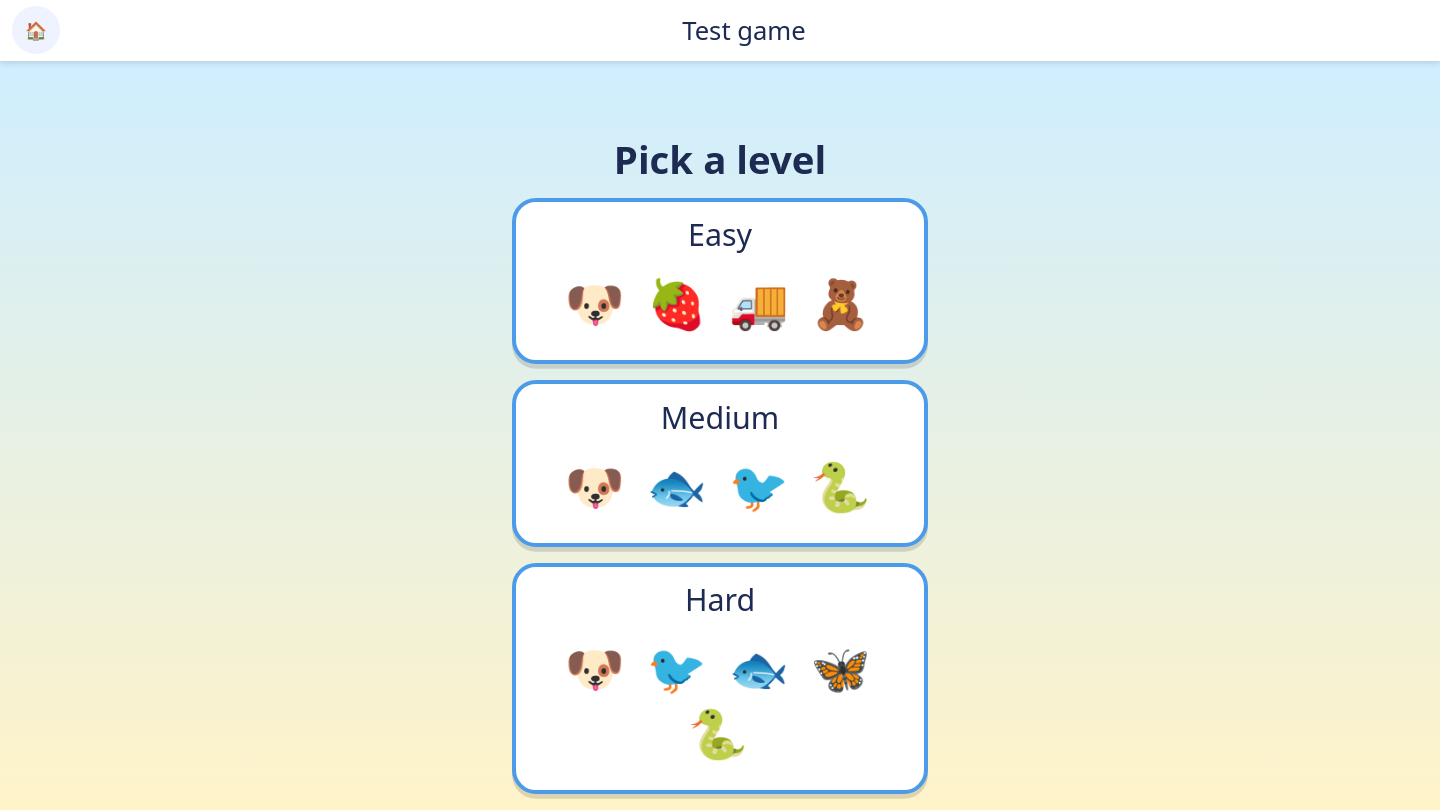
Scenario: BucketScreen › cheers a right bucket, scores and brings the next item
Click the button "Easy 🐶 🍓 🚚 🧸".
click(720, 281)  # box 512,198 -> 928,364
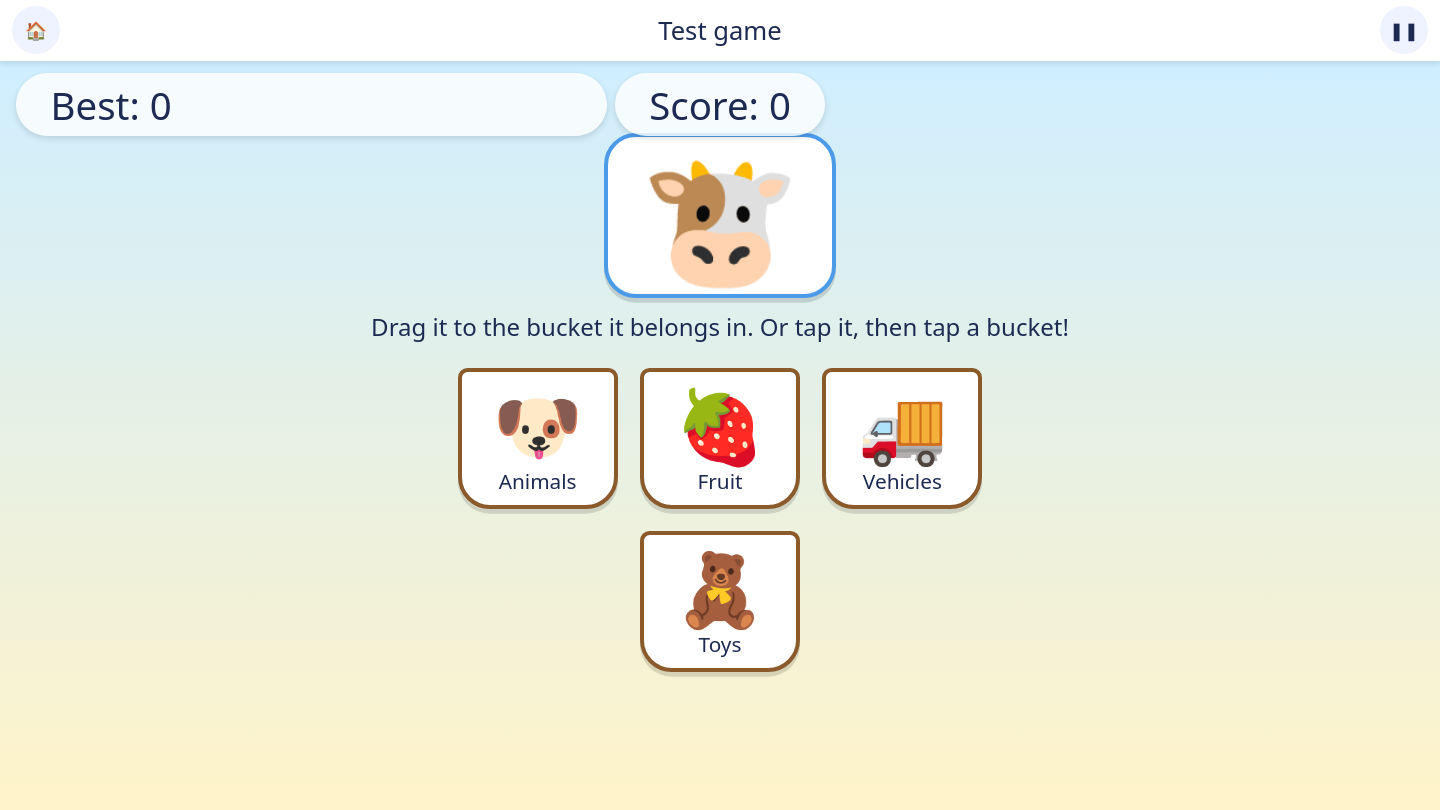
Click the button named "Item:".
click(720, 215)  # box 604,133 -> 836,298
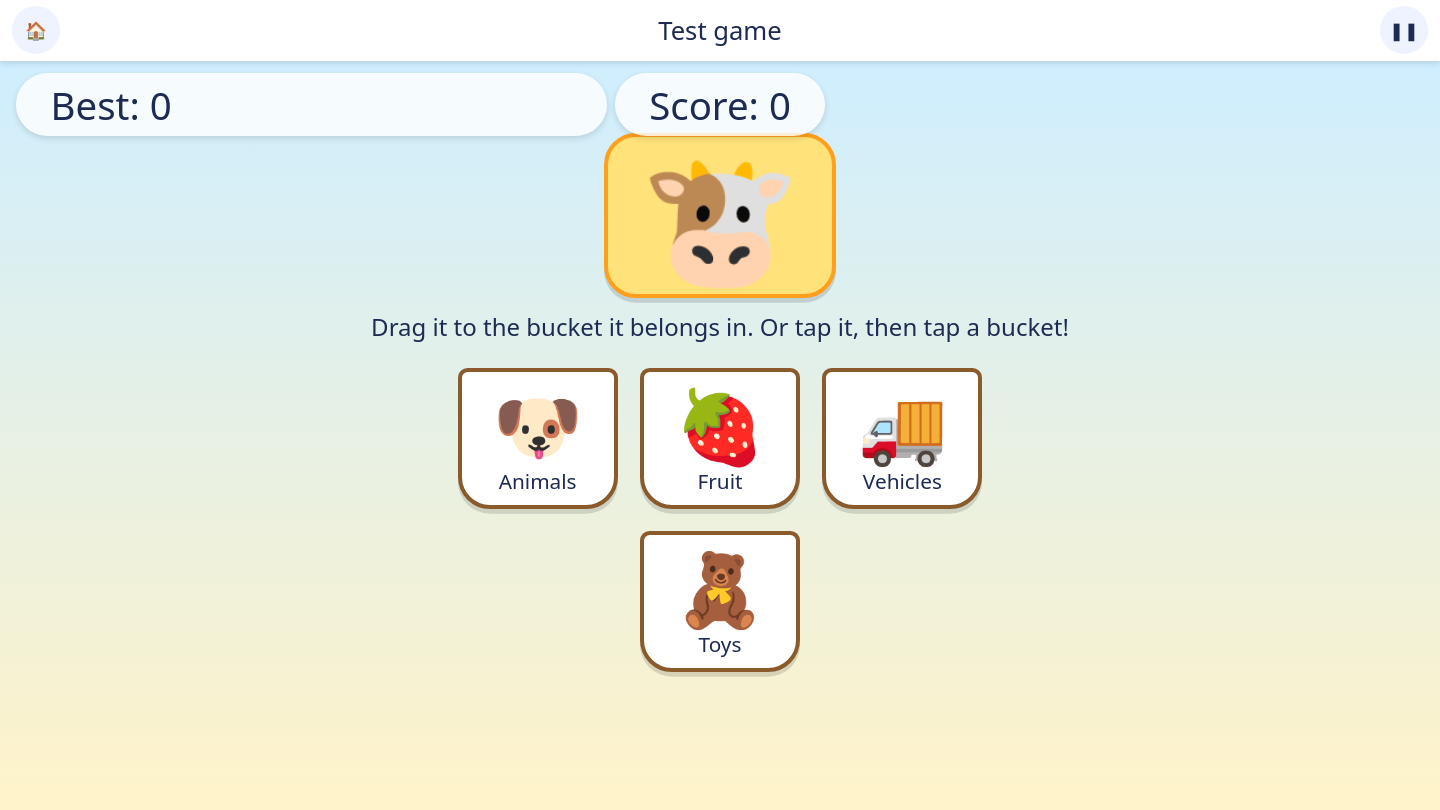
Click the button "🐶 Animals".
click(538, 438)  # box 458,368 -> 618,509
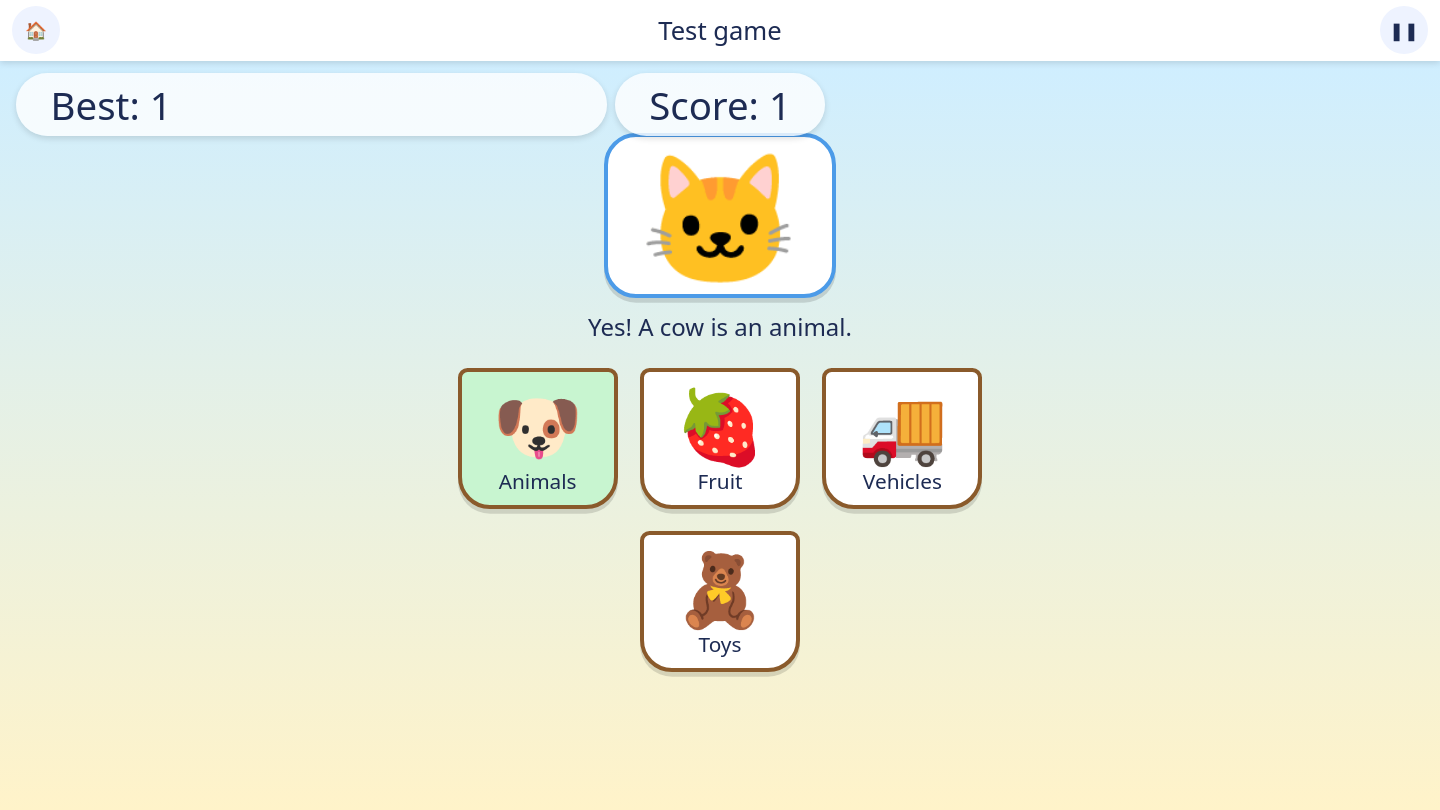
Result: the message "Yes! A cow is an animal." is shown at 588,310 -> 852,355
Result: the message "Score: 1" is shown at 615,73 -> 825,136
